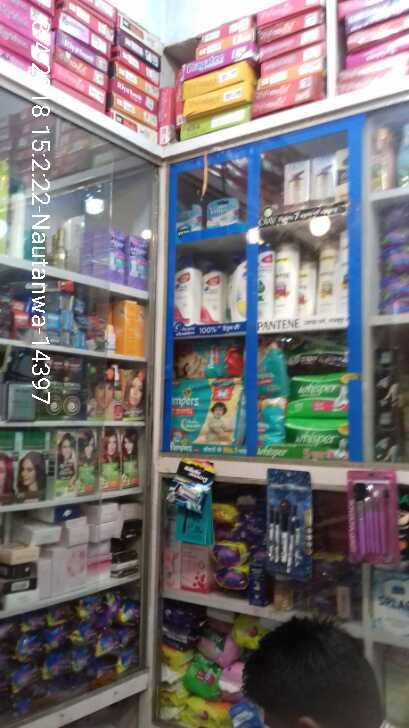gillete: (164, 458, 214, 508)
venus: (205, 201, 239, 225)
